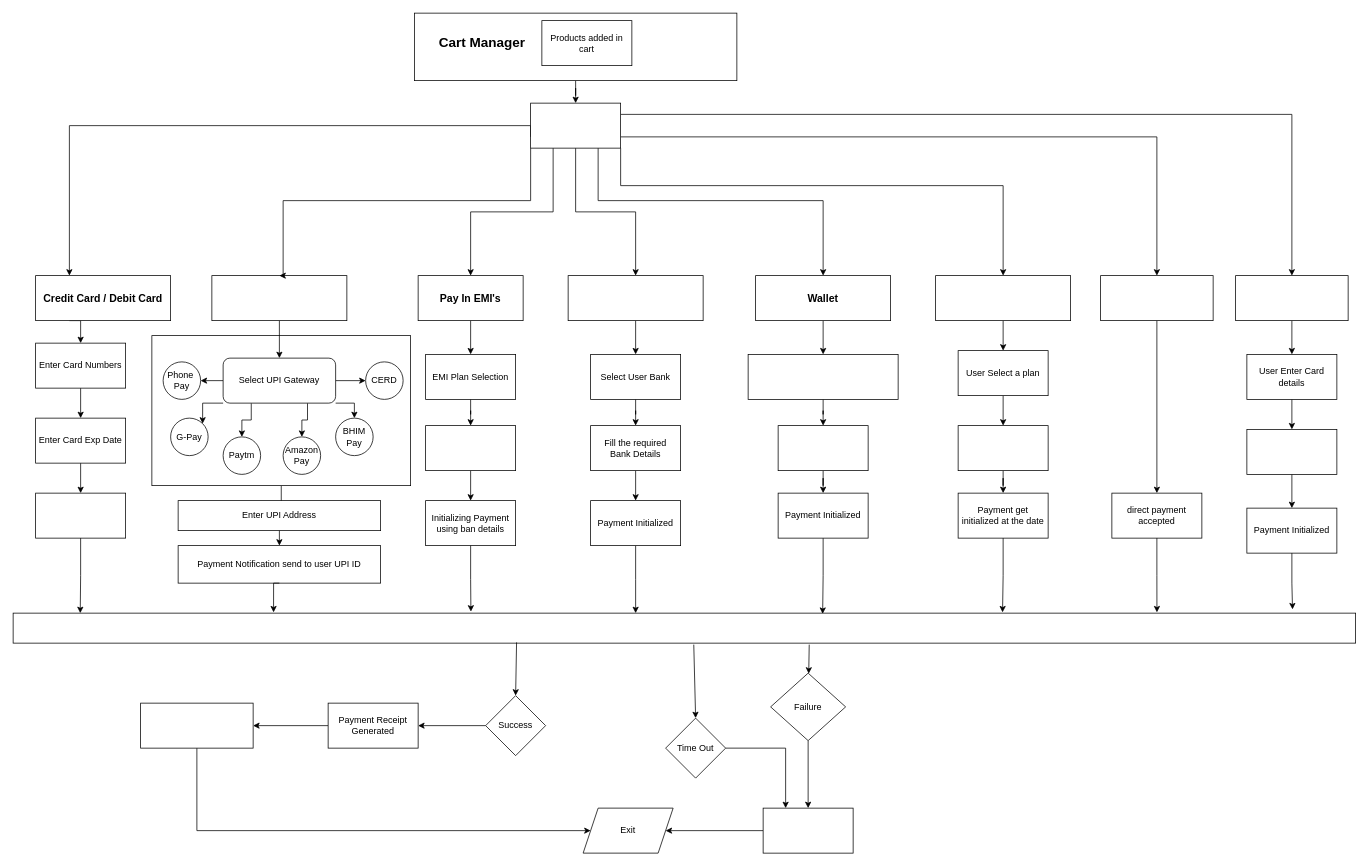
Some shapes in this 1369 by 866 pixel diagram are drawn without their labels. Here are the shapes that lost their labels. From the top down, the centre of each, then its label:
point (575, 125): Order Invoice
point (279, 298): UPI Gateways
point (635, 298): Net Banking
point (1003, 298): Buy Now Pay Later
point (1156, 298): Cash
point (1291, 298): Card Swipe Machine
point (822, 376): Accessing the payment details from personal wallet
point (470, 448): Feeling Details about user
point (822, 448): Adding the amount to payment gateway
point (1002, 448): Date is set / Installments are set
point (1291, 451): Enter the password
point (80, 515): Enter Card CVV
point (684, 627): Timer For the payment Get Started suppose to be 2:00 Minutes
point (196, 725): Sent to user registered Email ID Or mobile number
point (807, 830): Notify User via mail, mob num, Machine
